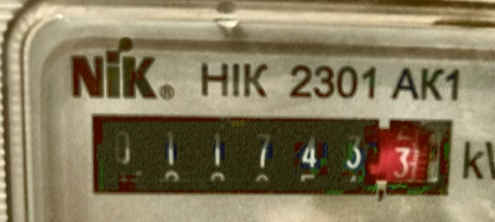0: (108, 130, 131, 169), (158, 128, 177, 169)
1: (205, 129, 222, 170)
3: (341, 132, 361, 175), (389, 145, 409, 183)
4: (296, 132, 316, 172)
7: (248, 129, 272, 173)
screen: (69, 101, 458, 210)
